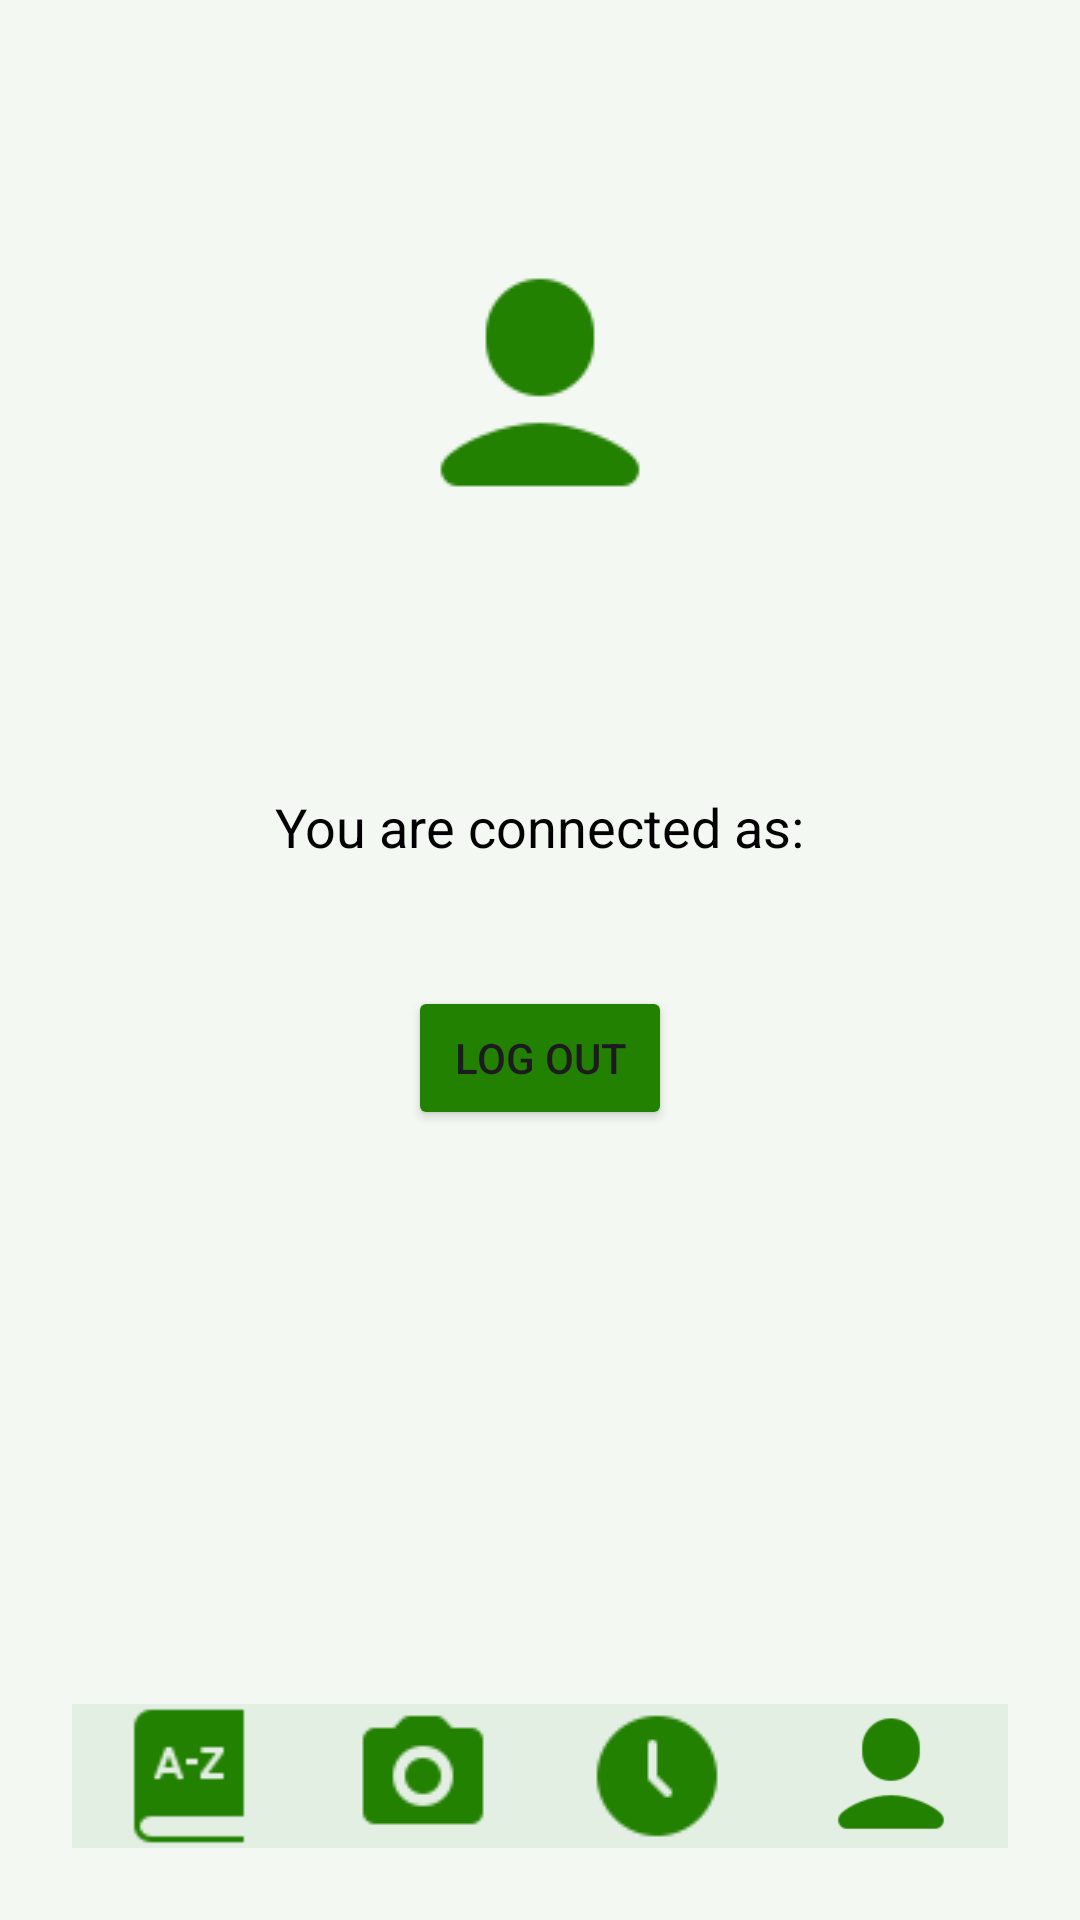

Icons on this 1080*1920 Android screen, each with the point to tap as [x,y]:
Caméra: [423,1770]
Compte: [891,1774]
Encyclopédie: [189,1776]
Historique: [657,1776]
Icône utilisateur: [540,382]
